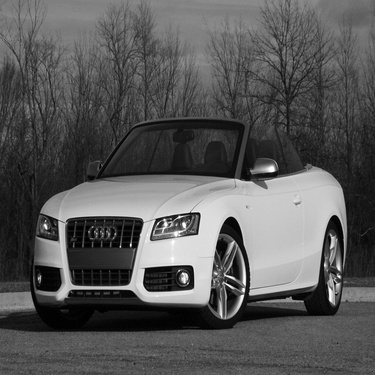car: (19, 96, 375, 312)
